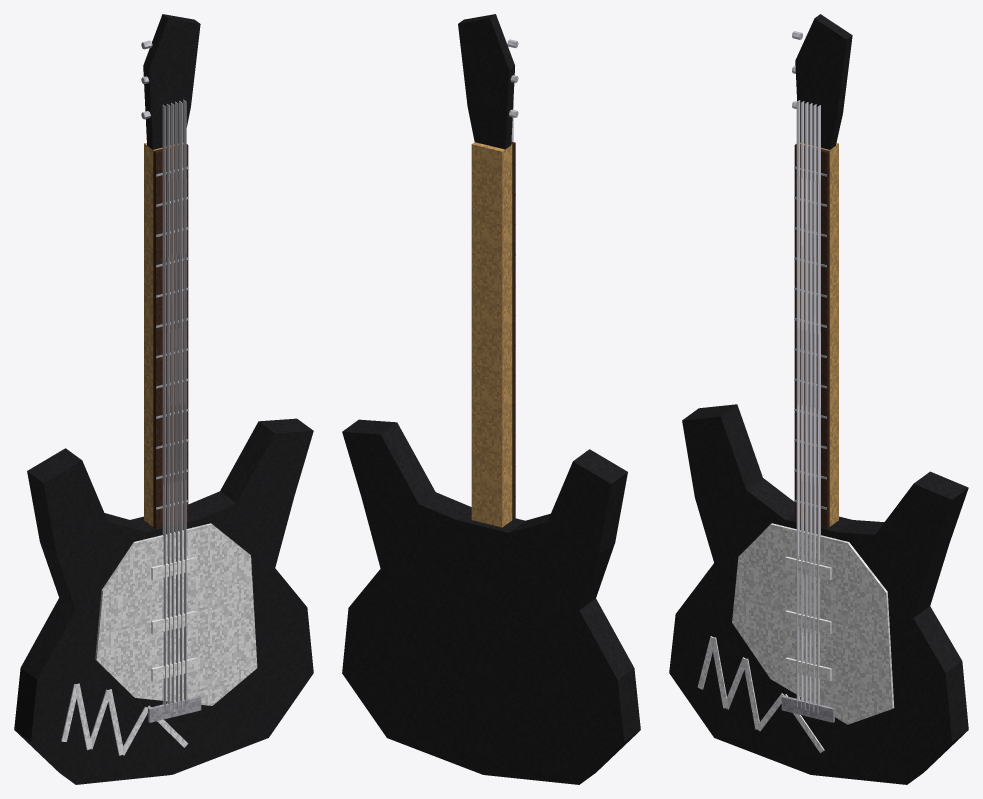
The model's file is 03-guitar.glb.
3 renders of one model, left to right at view 1: azimuth 30°, elevation 25°; view 2: azimuth 150°, elevation 25°; view 3: azimuth 330°, elevation 25°, orthographic.
Visible parts, largest first — view 1: Body.001, Pickguard, Fretboard, Headstock, Neck, String 1, String 2, String 3, String 5, String 4, String 0, Bridge (+3 smaller); view 2: Body.001, Neck, Headstock, Fretboard; view 3: Body.001, Pickguard, Fretboard, Headstock, Neck, String 0, String 4, String 5, String 1, String 2, String 3, Bridge (+3 smaller).
Part boxes in pixels (x1,y1,x2,y2): Body.001: [14, 418, 313, 784]; Pickguard: [95, 523, 257, 705]; Fretboard: [153, 144, 188, 529]; Headstock: [143, 14, 200, 149]; Neck: [144, 143, 183, 526]; String 1: [166, 104, 170, 711]; String 2: [171, 103, 174, 710]; String 3: [175, 101, 178, 709]; String 5: [183, 99, 186, 707]; String 4: [179, 101, 182, 708]; String 0: [162, 105, 165, 712]; Bridge: [148, 695, 201, 722]; Body.001: [342, 419, 640, 784]; Neck: [471, 142, 512, 527]; Headstock: [458, 14, 514, 149]; Fretboard: [511, 141, 515, 520]; Body.001: [669, 404, 968, 784]; Pickguard: [732, 523, 894, 724]; Fretboard: [794, 144, 829, 529]; Headstock: [795, 14, 852, 149]; Neck: [800, 143, 838, 526]; String 0: [796, 100, 800, 707]; String 4: [813, 104, 816, 711]; String 5: [817, 105, 820, 712]; String 1: [801, 101, 804, 708]; String 2: [805, 102, 808, 709]; String 3: [809, 103, 812, 710]; Bridge: [781, 695, 834, 722].
Bounding box in the file's own units: 0.44 × 1.12 × 0.0545.
11 materials, 11 textured.
